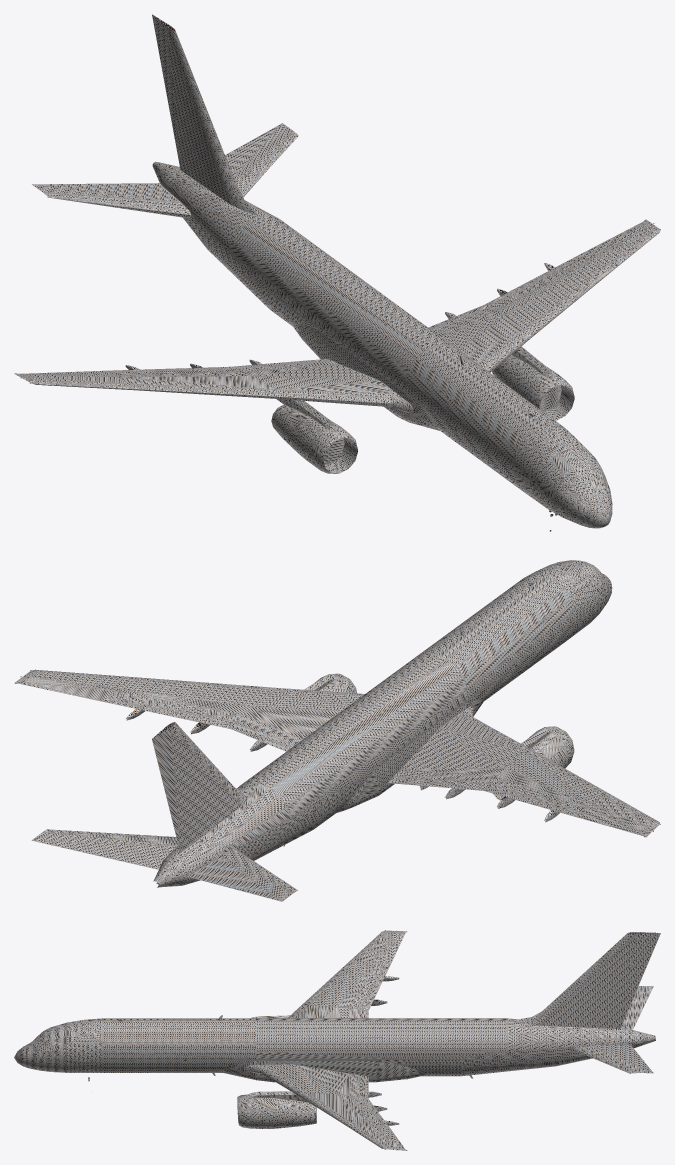
File: AIG_B757-200_RR_LOD1.gltf
The picture shows the model from 3 angles, top to bottom: view 1: azimuth 30°, elevation 25°; view 2: azimuth 150°, elevation 25°; view 3: azimuth 270°, elevation 25°; orthographic projection. The views are drawn at different scales.
Visible parts, largest first — view 1: fuselage_RR_low_LOD; view 2: fuselage_RR_low_LOD; view 3: fuselage_RR_low_LOD.
Boxes of the visible parts, bbox=[...] form: fuselage_RR_low_LOD: bbox=[14, 14, 660, 528]; fuselage_RR_low_LOD: bbox=[14, 560, 659, 901]; fuselage_RR_low_LOD: bbox=[14, 930, 660, 1150].
Size of the model in its own units: 38.11 by 12.91 by 47.34.
